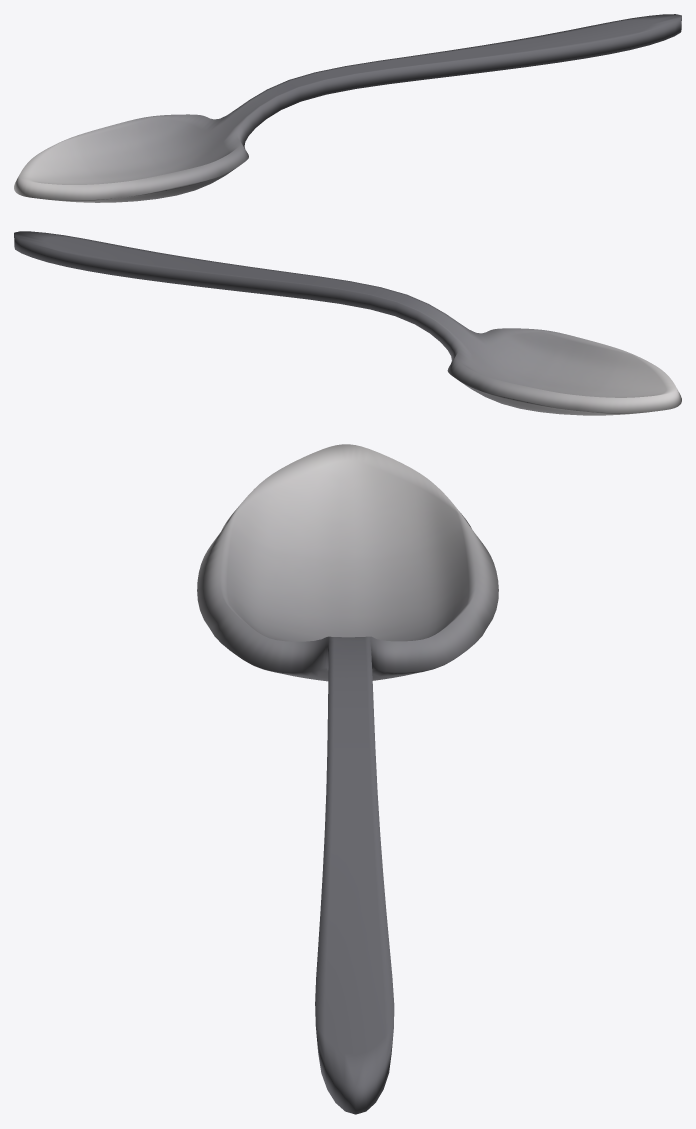
File: Spoon.glb
3 renders of one model, top to bottom at view 1: azimuth 30°, elevation 25°; view 2: azimuth 150°, elevation 25°; view 3: azimuth 270°, elevation 25°, orthographic. The views are drawn at different scales.
Visible parts, largest first — view 1: Spoon; view 2: Spoon; view 3: Spoon.
Part boxes in pixels (x1=…): Spoon: x1=14, y1=14, x2=681, y2=202; Spoon: x1=14, y1=231, x2=681, y2=415; Spoon: x1=197, y1=444, x2=498, y2=1114.
Bounding box in the file's own units: 0.3257 × 0.0316 × 0.0643.
1 material, 1 textured.
